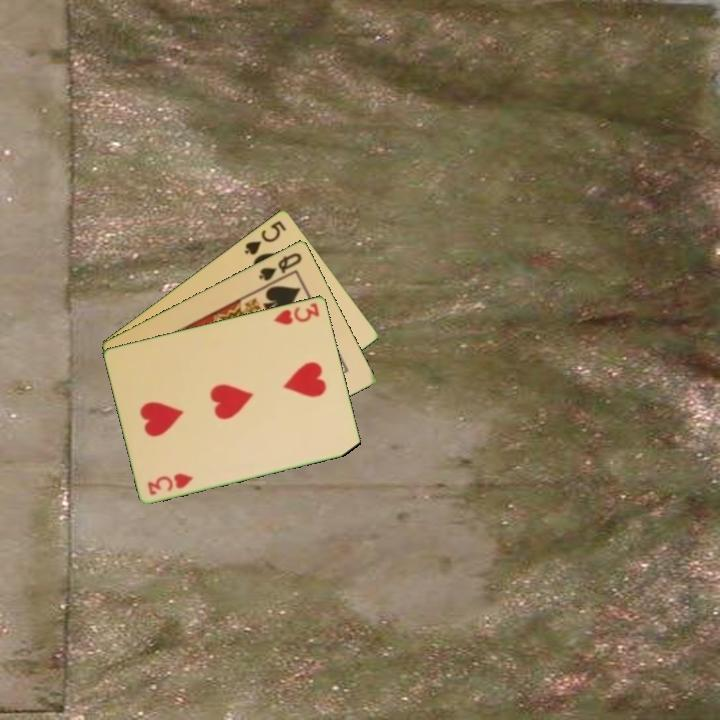3h: (144, 469, 196, 498), (270, 299, 322, 327)
5s: (241, 217, 289, 258)
Qs: (255, 249, 305, 284)
